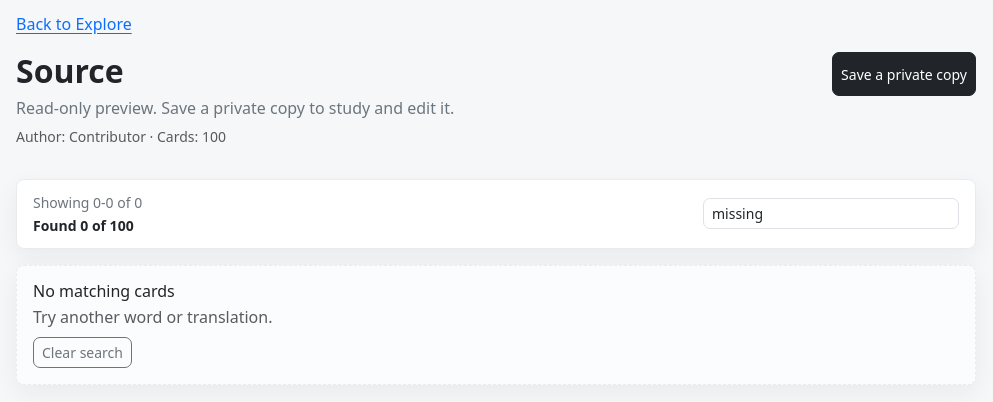
Test: Shared collection automatic server search › distinguishes zero matches from an empty source and exposes immediate Reset Search
The width and height of the screenshot is (993, 402).
Check: the text "This collection has no cards yet" is not shown
Step 1. Click the button "Clear search" → click(82, 352), box [33,337,132,368]
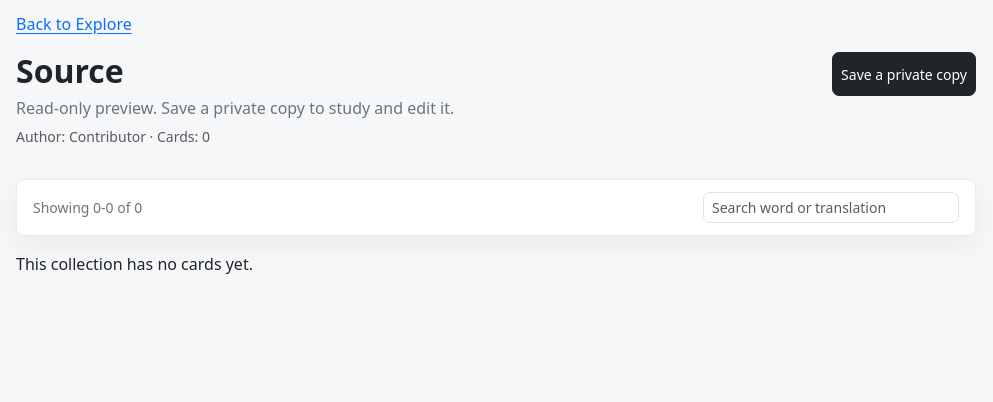
Check: the text "This collection has no cards yet" is shown, box [16,253,253,275]
Check: the element with class "shared-search-empty" is gone
